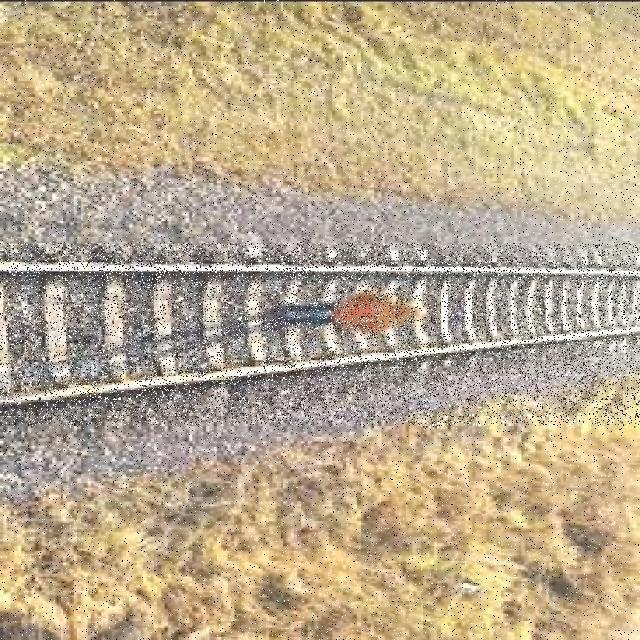rail: (1, 245, 640, 426)
